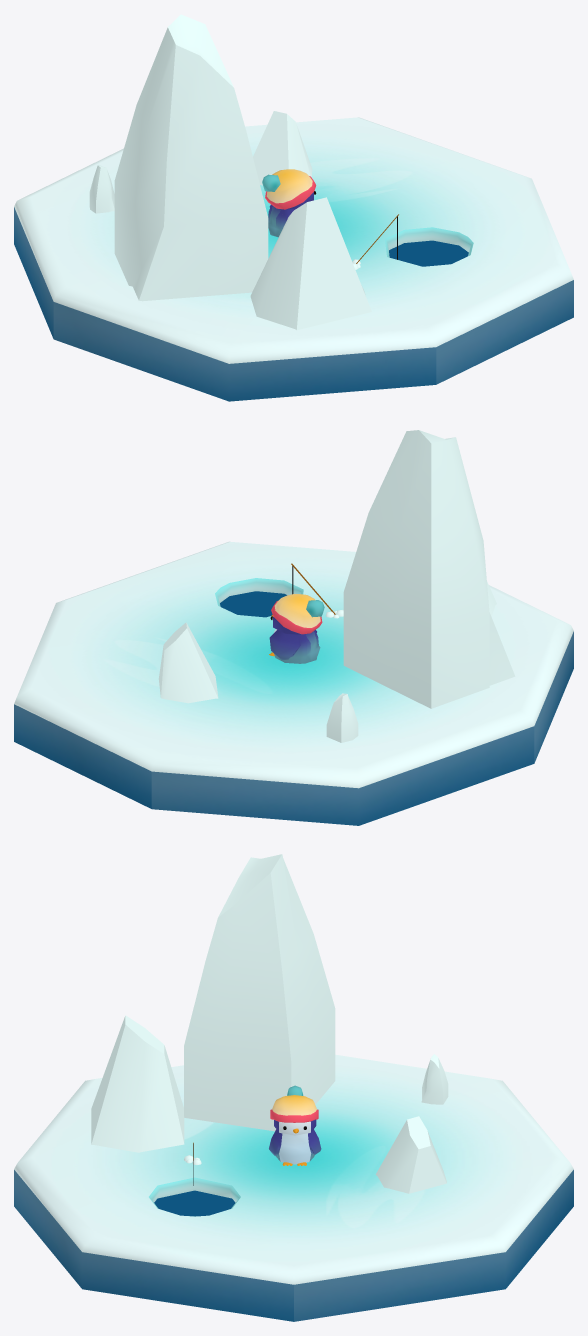
Rendered from lonely-little-penguin-9d36d4.glb.
3 renders of one model, top to bottom at view 1: azimuth 30°, elevation 25°; view 2: azimuth 150°, elevation 25°; view 3: azimuth 270°, elevation 25°, orthographic.
Visible parts, largest first — view 1: PropMesh; view 2: PropMesh; view 3: PropMesh.
Boxes of the visible parts, x1,y1,x2,y2 form: PropMesh: (14,14,573,401); PropMesh: (14,430,573,825); PropMesh: (14,854,573,1321).
Size of the model in its own units: 1.01 by 0.6 by 1.03.
Materials: 8 (5 with a texture image).
